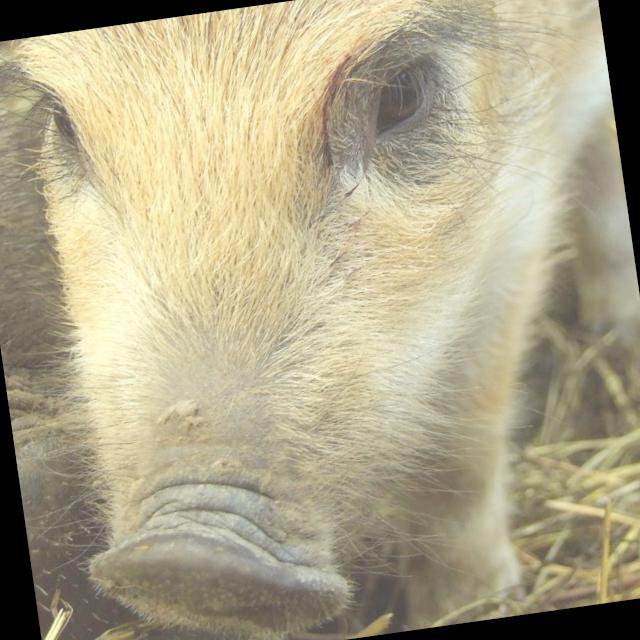pig: (14, 0, 606, 634)
